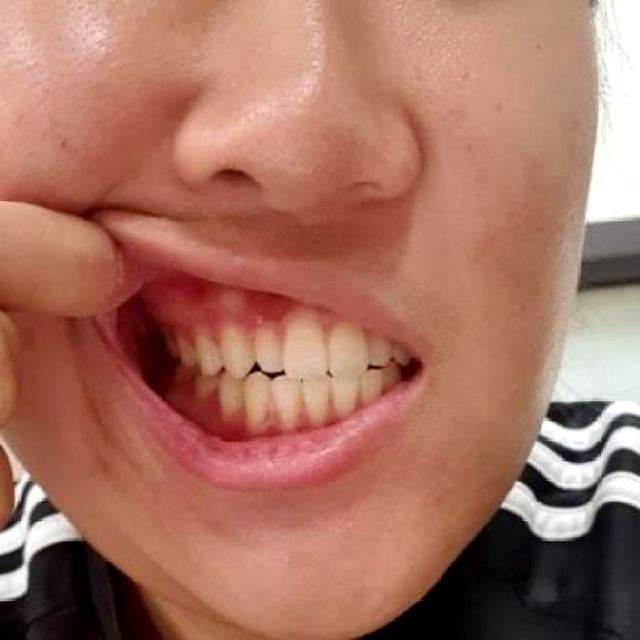Plaque: (244, 402, 271, 423), (251, 327, 283, 342)
